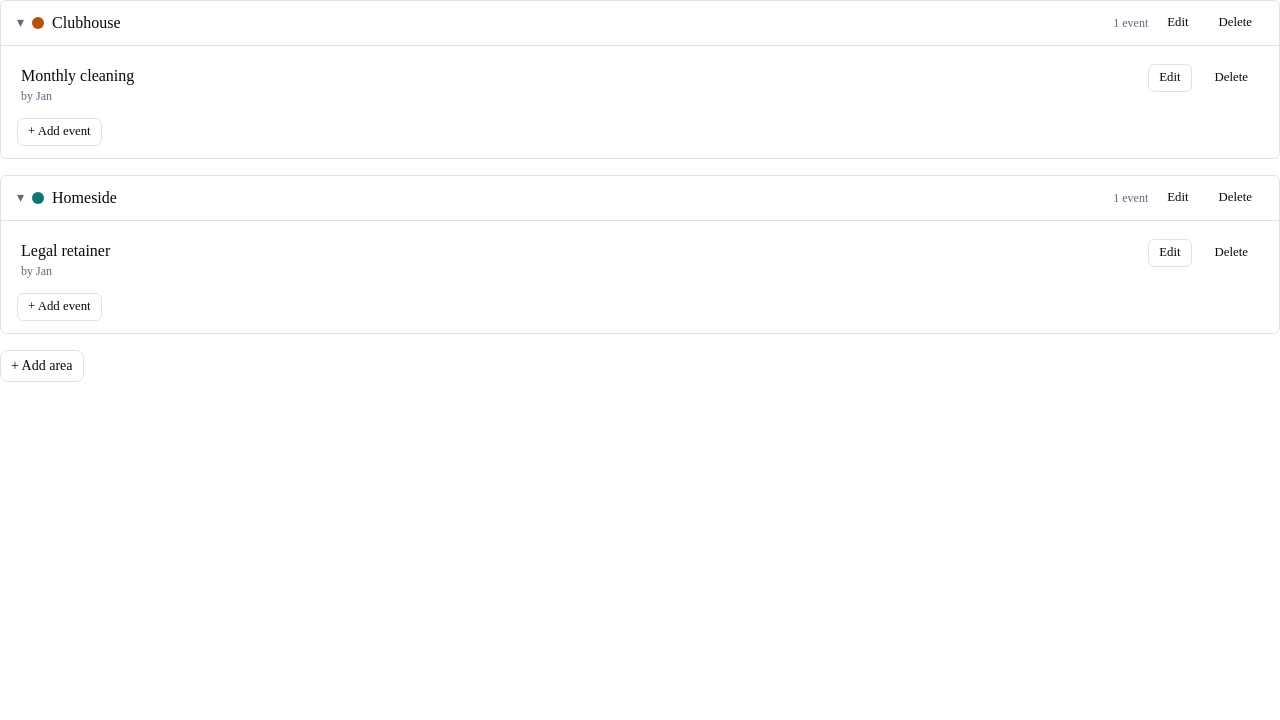
CalendarAdmin › opens an add-event form preselected to the section's area
This screenshot has width=1280, height=720.
Click the button "+ Add event" below "Monthly cleaning".
click(59, 132)  # box [17,118,102,146]
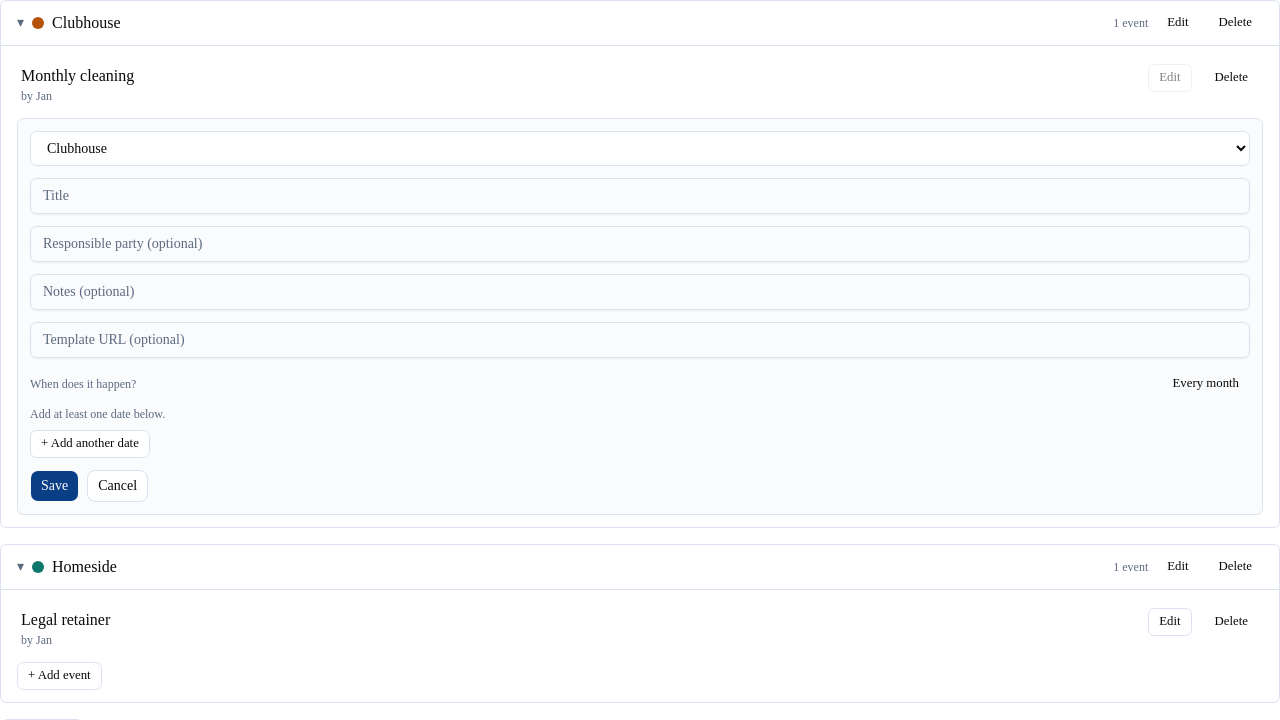
Now the field labelled "Title" is shown, box [30,178,1250,214]
Now the dropdown named "Area" shows "Clubhouse", box [30,131,1250,166]
